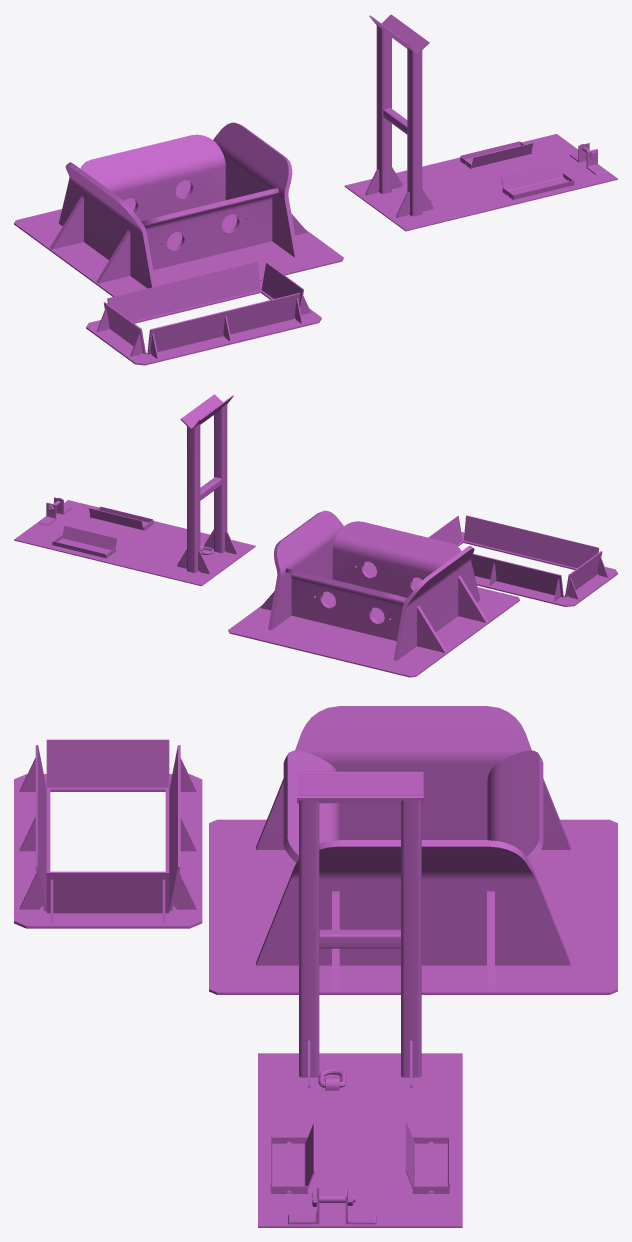
Rendered from SM_ShippingContainer_Fixtures_01.fbx.
3 renders of one model, top to bottom at view 1: azimuth 30°, elevation 25°; view 2: azimuth 150°, elevation 25°; view 3: azimuth 270°, elevation 25°, orthographic. The views are drawn at different scales.
Visible parts, largest first — view 1: SM_ShippingContainer_Supports_08.001; view 2: SM_ShippingContainer_Supports_08.001; view 3: SM_ShippingContainer_Supports_08.001.
Part boxes in pixels (x1,y1,x2,y2): SM_ShippingContainer_Supports_08.001: [14, 14, 617, 365]; SM_ShippingContainer_Supports_08.001: [14, 394, 617, 677]; SM_ShippingContainer_Supports_08.001: [14, 706, 617, 1227].
Size of the model in its own units: 260 by 79.53 by 148.
